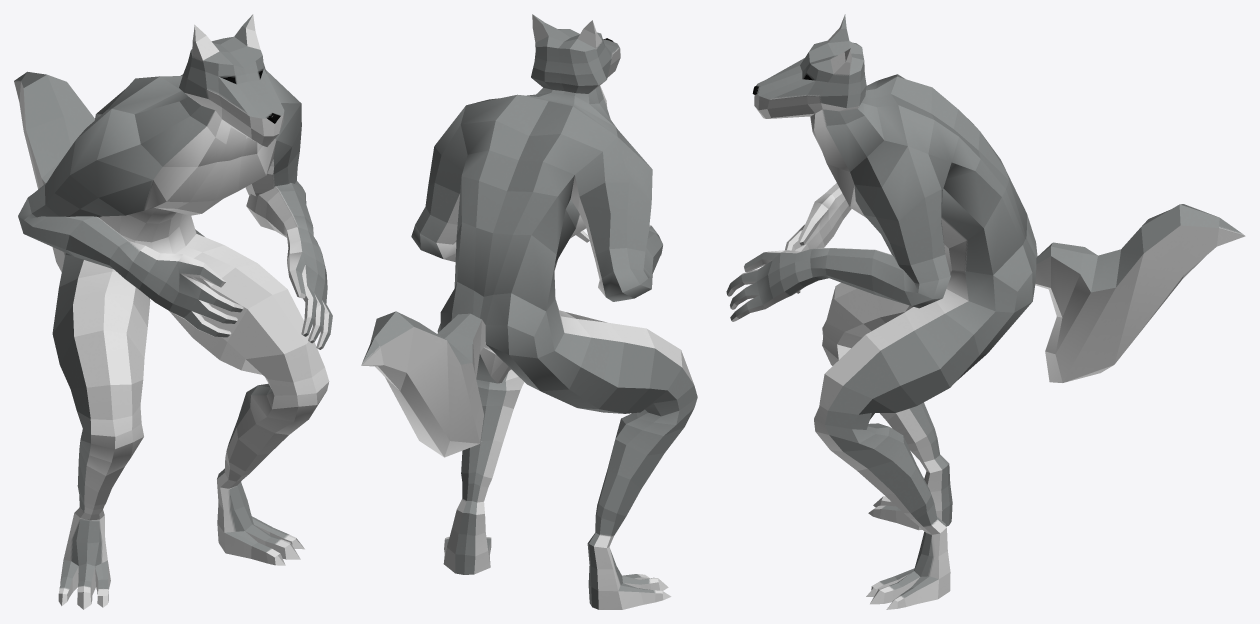
The model's file is WolfIdle_(115).obj.
3 views of the same model, side by side, from view 1: azimuth 30°, elevation 25°; view 2: azimuth 150°, elevation 25°; view 3: azimuth 270°, elevation 25° (orthographic). The views are drawn at different scales.
Parts seen in each view (by area): view 1: Box001; view 2: Box001; view 3: Box001.
Part boxes in pixels (x1,y1,x2,y2): Box001: [14, 14, 332, 609]; Box001: [361, 14, 697, 609]; Box001: [726, 14, 1245, 609].
Bounding box in the file's own units: 63.26 × 131 × 115.
